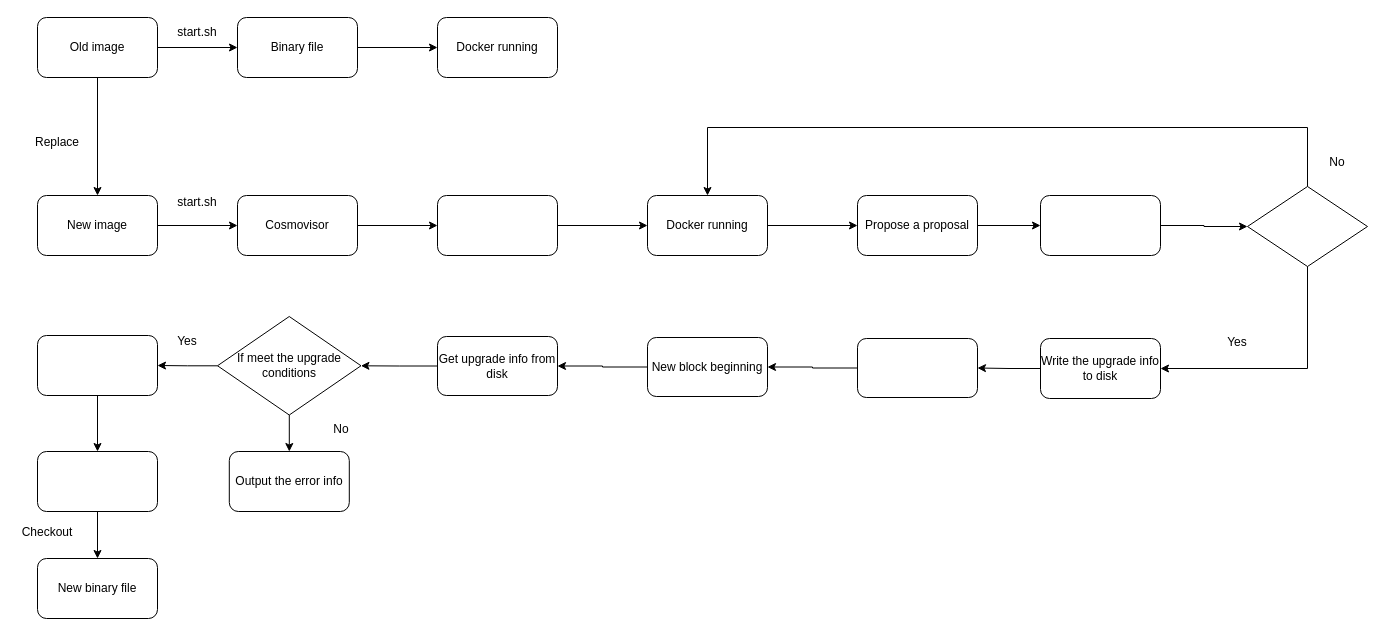
This 1385x636 diagram has some shape labels left out. Each missing label, with the centre of its shape:
Cosmovisor check the output: the point at 97,481
if pass: the point at 1307,226
New block coming: the point at 917,368
Old binary file: the point at 497,225
Print upgrade message: the point at 97,365
Vote: the point at 1100,225
